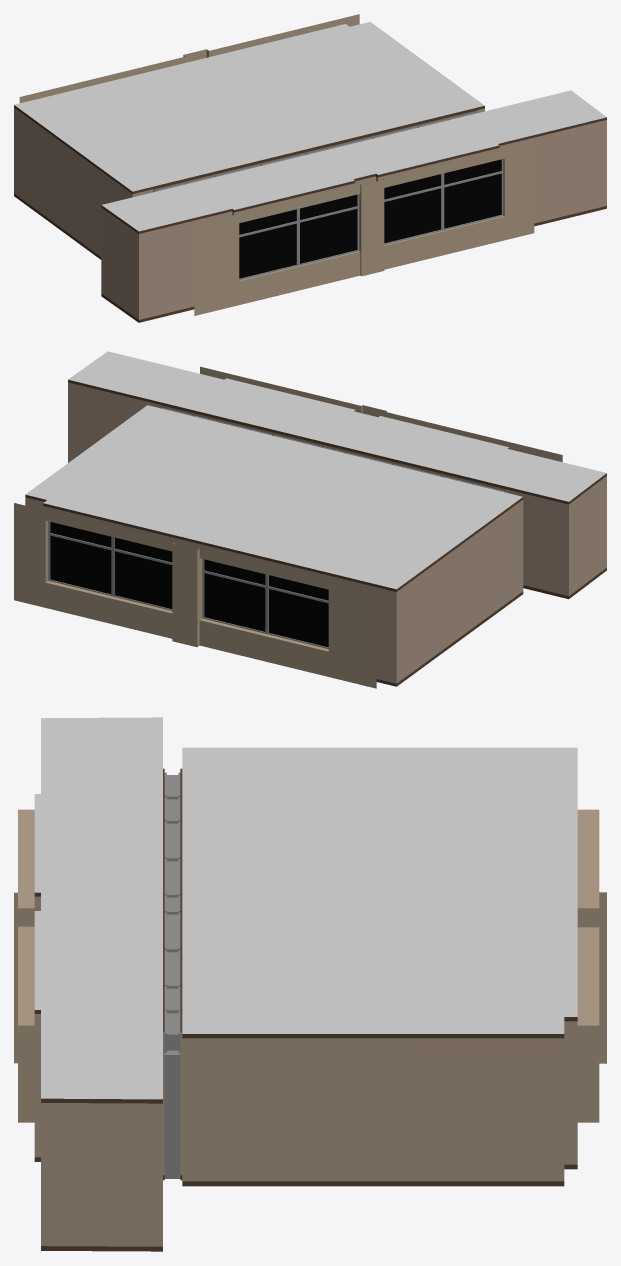
The model's file is anime_classroom.glb.
The picture shows the model from 3 angles, top to bottom: view 1: azimuth 30°, elevation 25°; view 2: azimuth 150°, elevation 25°; view 3: azimuth 270°, elevation 25°; orthographic projection. The views are drawn at different scales.
Parts seen in each view (by area): view 1: room, windows; view 2: room, windows; view 3: room.
Boxes of the visible parts, box(x1,y1,x2,y2) form: room: box(14, 14, 606, 322); windows: box(239, 159, 501, 278); room: box(14, 351, 606, 688); windows: box(50, 522, 328, 647); room: box(14, 717, 606, 1251).
Size of the model in its own units: 59.93 by 11.14 by 39.32.
